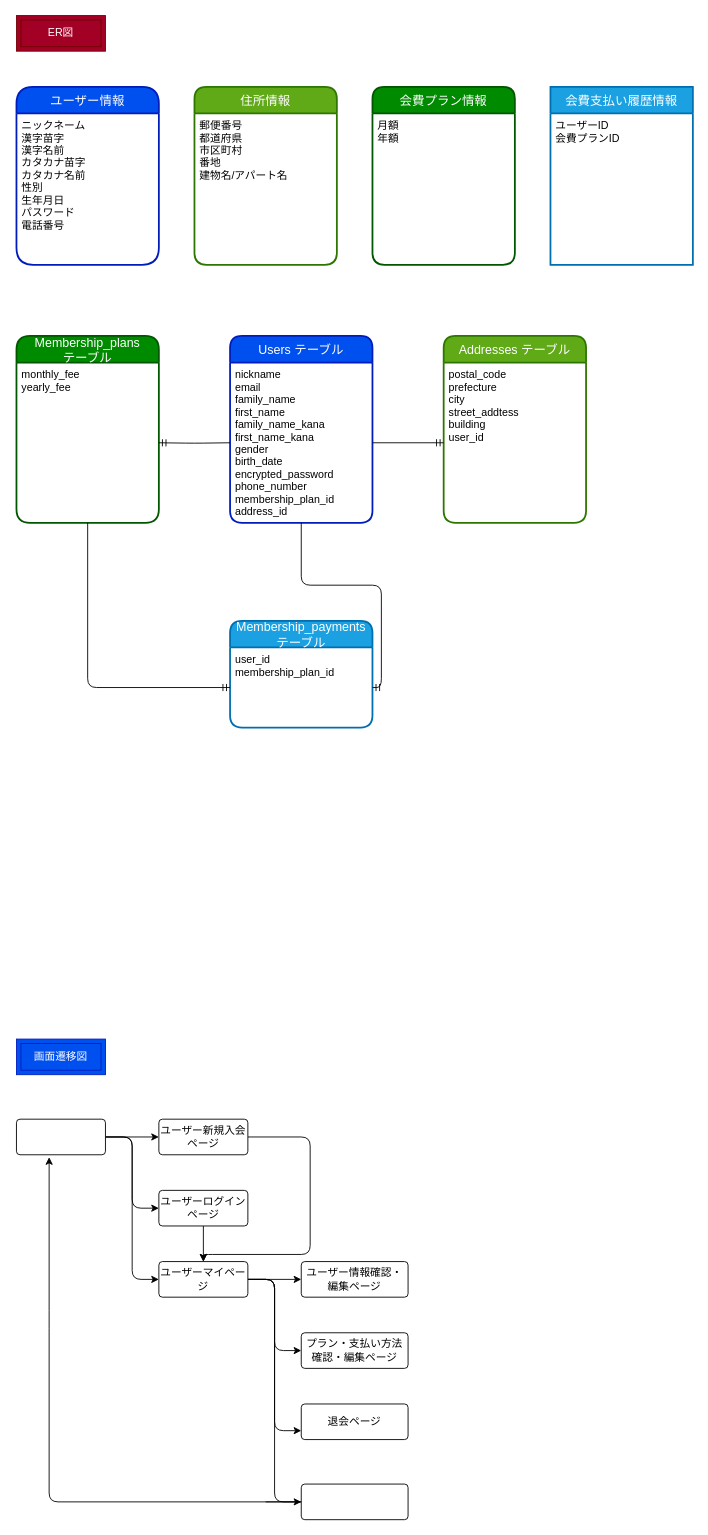
This 708x1535 diagram has some shape labels left out. Here are the shapes that lost their labels. From the top down, the centre of each, then its label:
point (60, 1136): TOPページ
point (354, 1501): ログアウト
